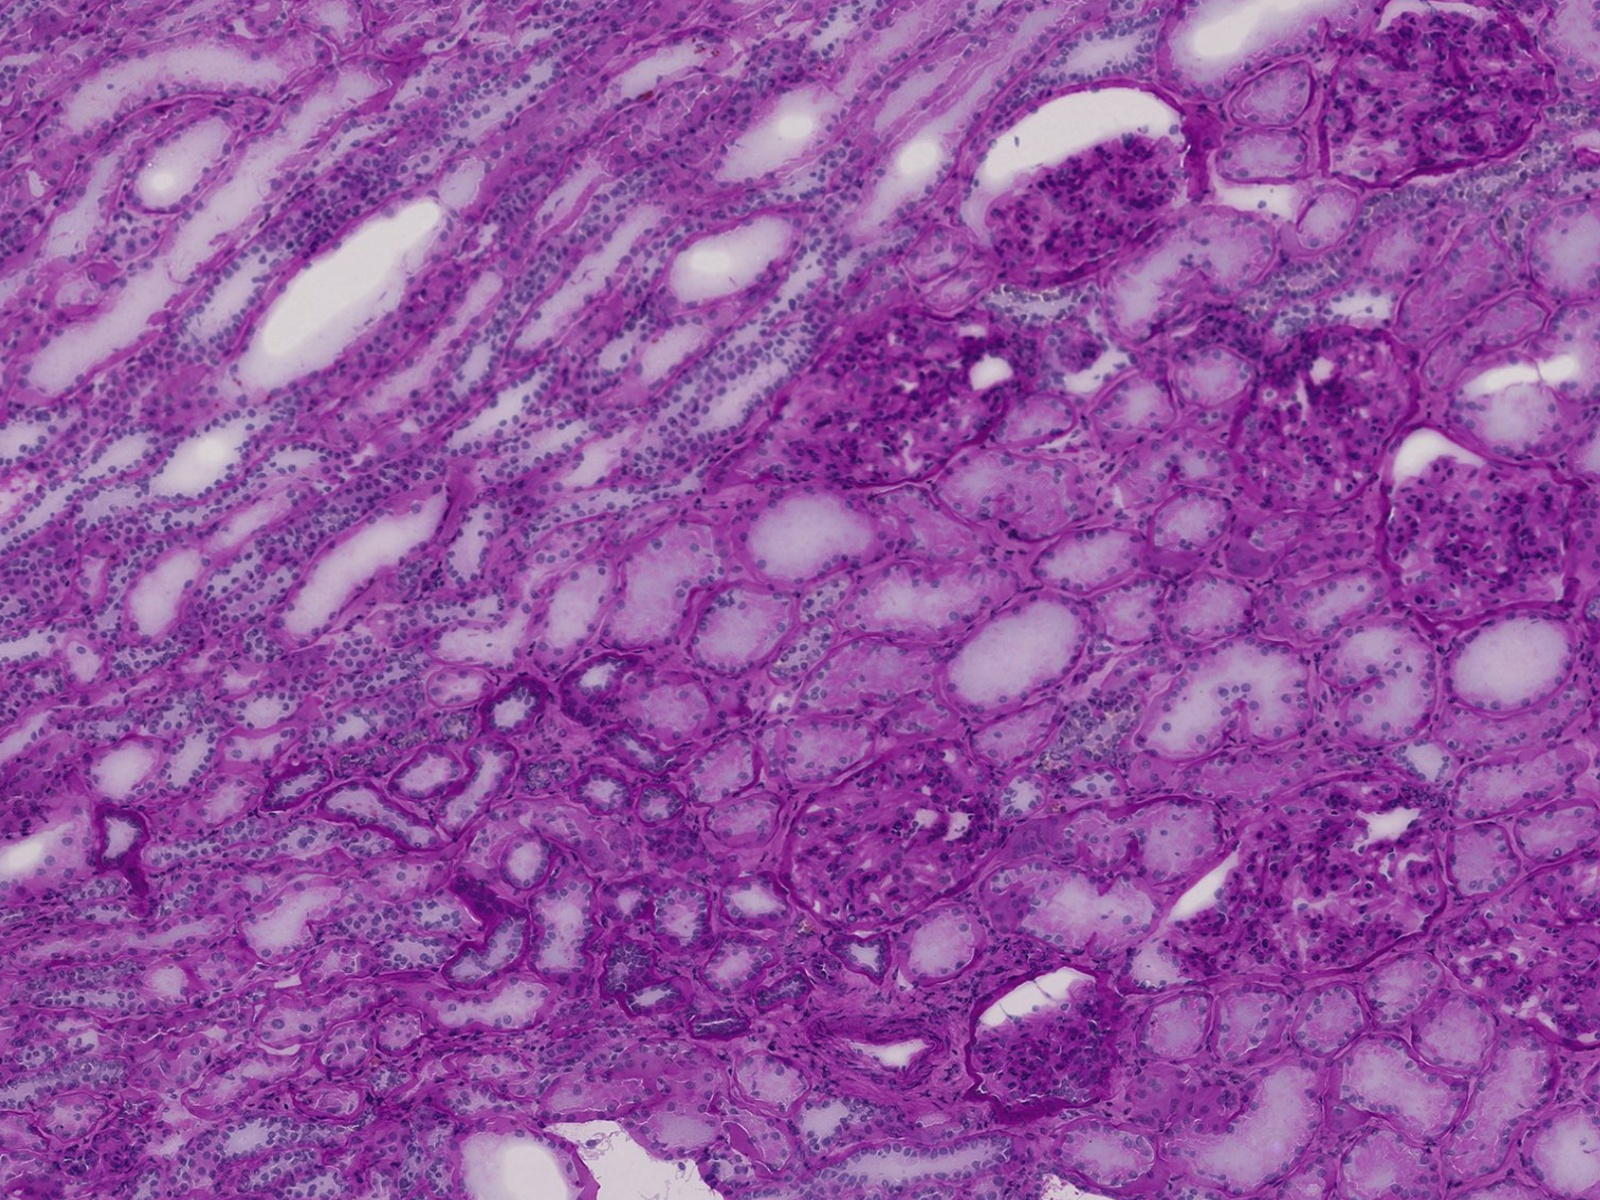Glomeruli: (1133, 770, 1454, 1002), (745, 305, 1031, 494), (1306, 5, 1571, 199), (951, 79, 1201, 282), (777, 732, 1015, 942), (1380, 424, 1580, 638), (1225, 320, 1432, 526), (1432, 834, 1595, 1053)
